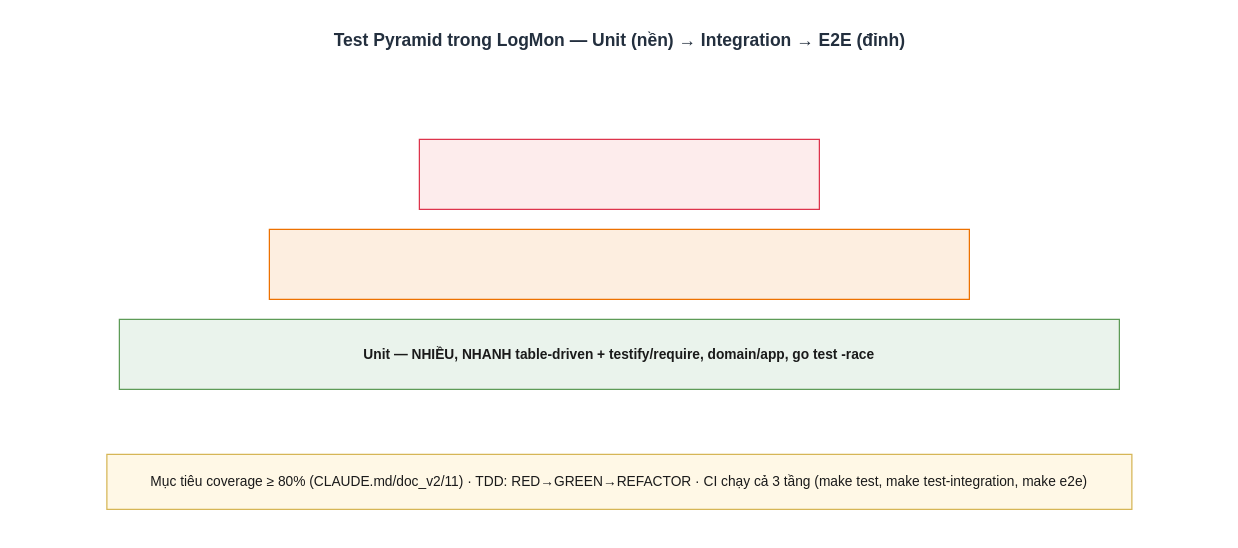
Image size: 1238x548. Some labels were removed from this diagram. Each missing label, with the centre of its shape:
"E2E (Playwright) — ÍT, CHẬM flow người dùng thật (make e2e)" goes at [618,173].
"Integration — VỪA API + DB thật (pgx/testcontainers), migrations" goes at [618,263].
